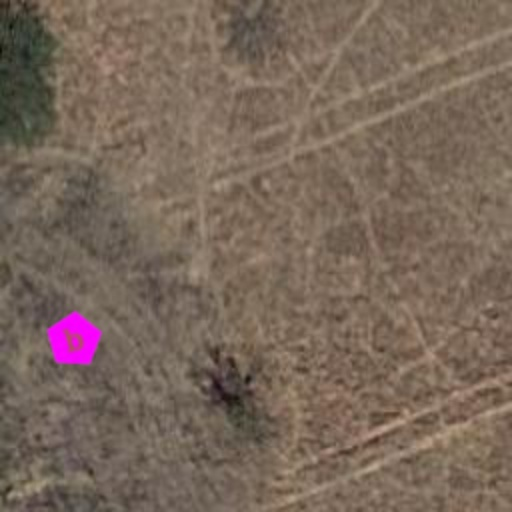pentagon: (38, 304, 110, 376)
